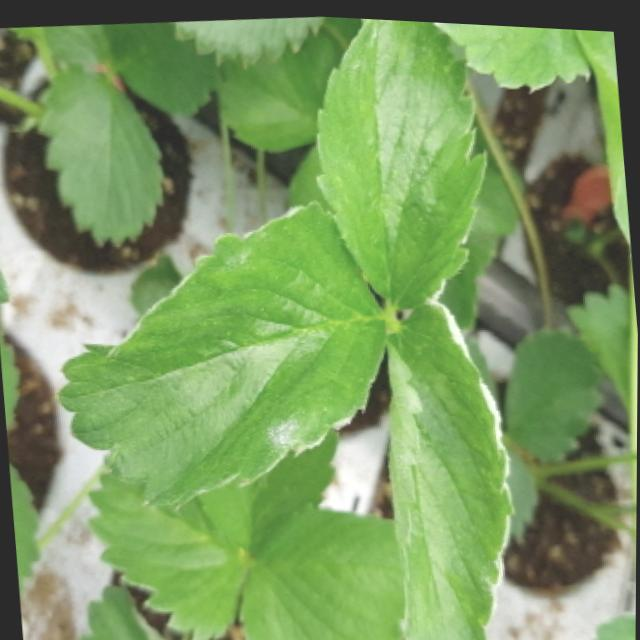Powdery Mildew Leaf: (55, 195, 388, 504), (388, 293, 511, 640)
